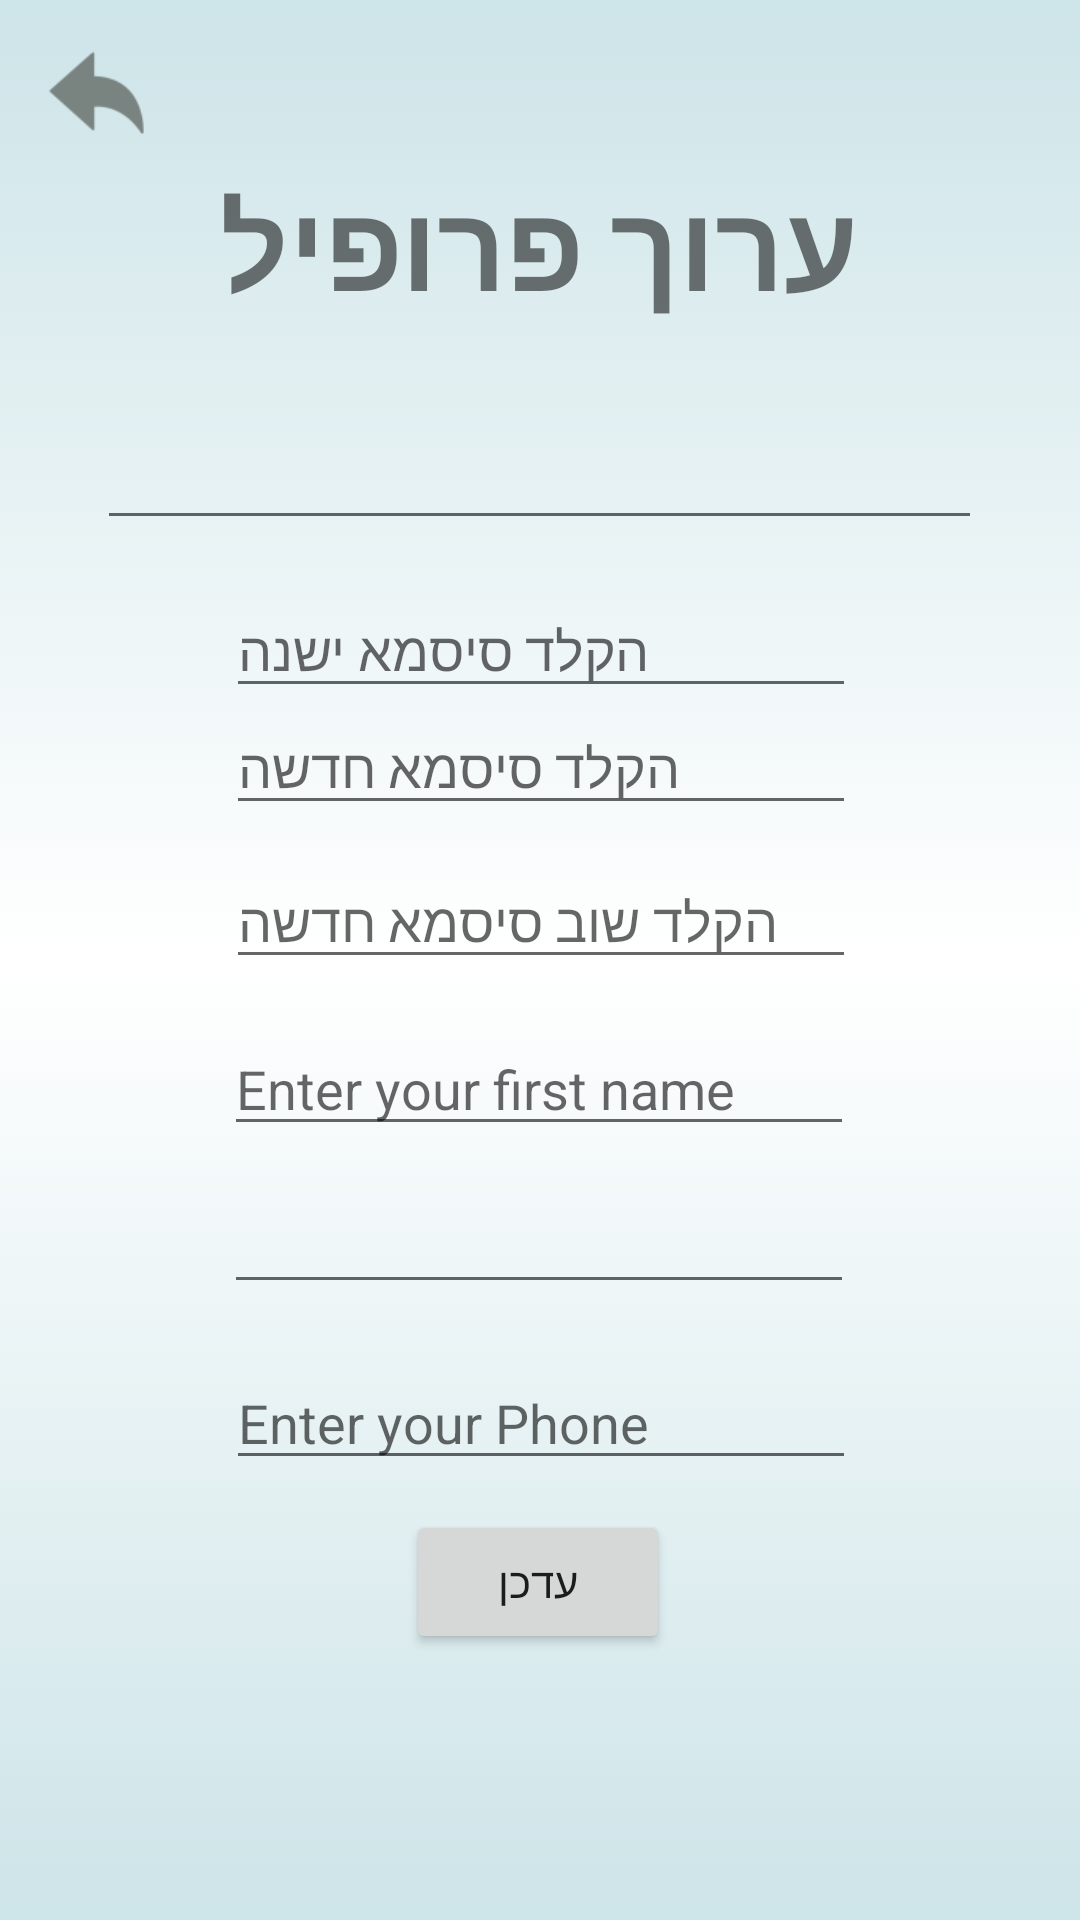

Icons on this 1080x1920 Android screen, each with the point to tap as (x=x, y=y):
back: (x=96, y=93)
